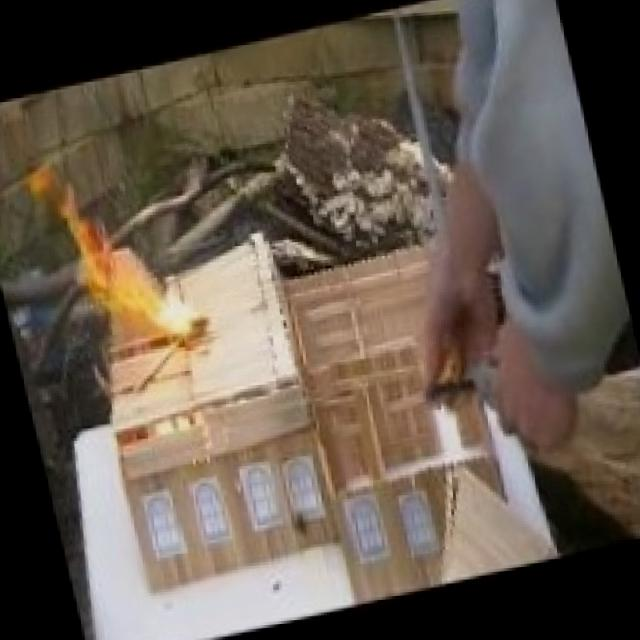fire: (32, 131, 211, 370)
